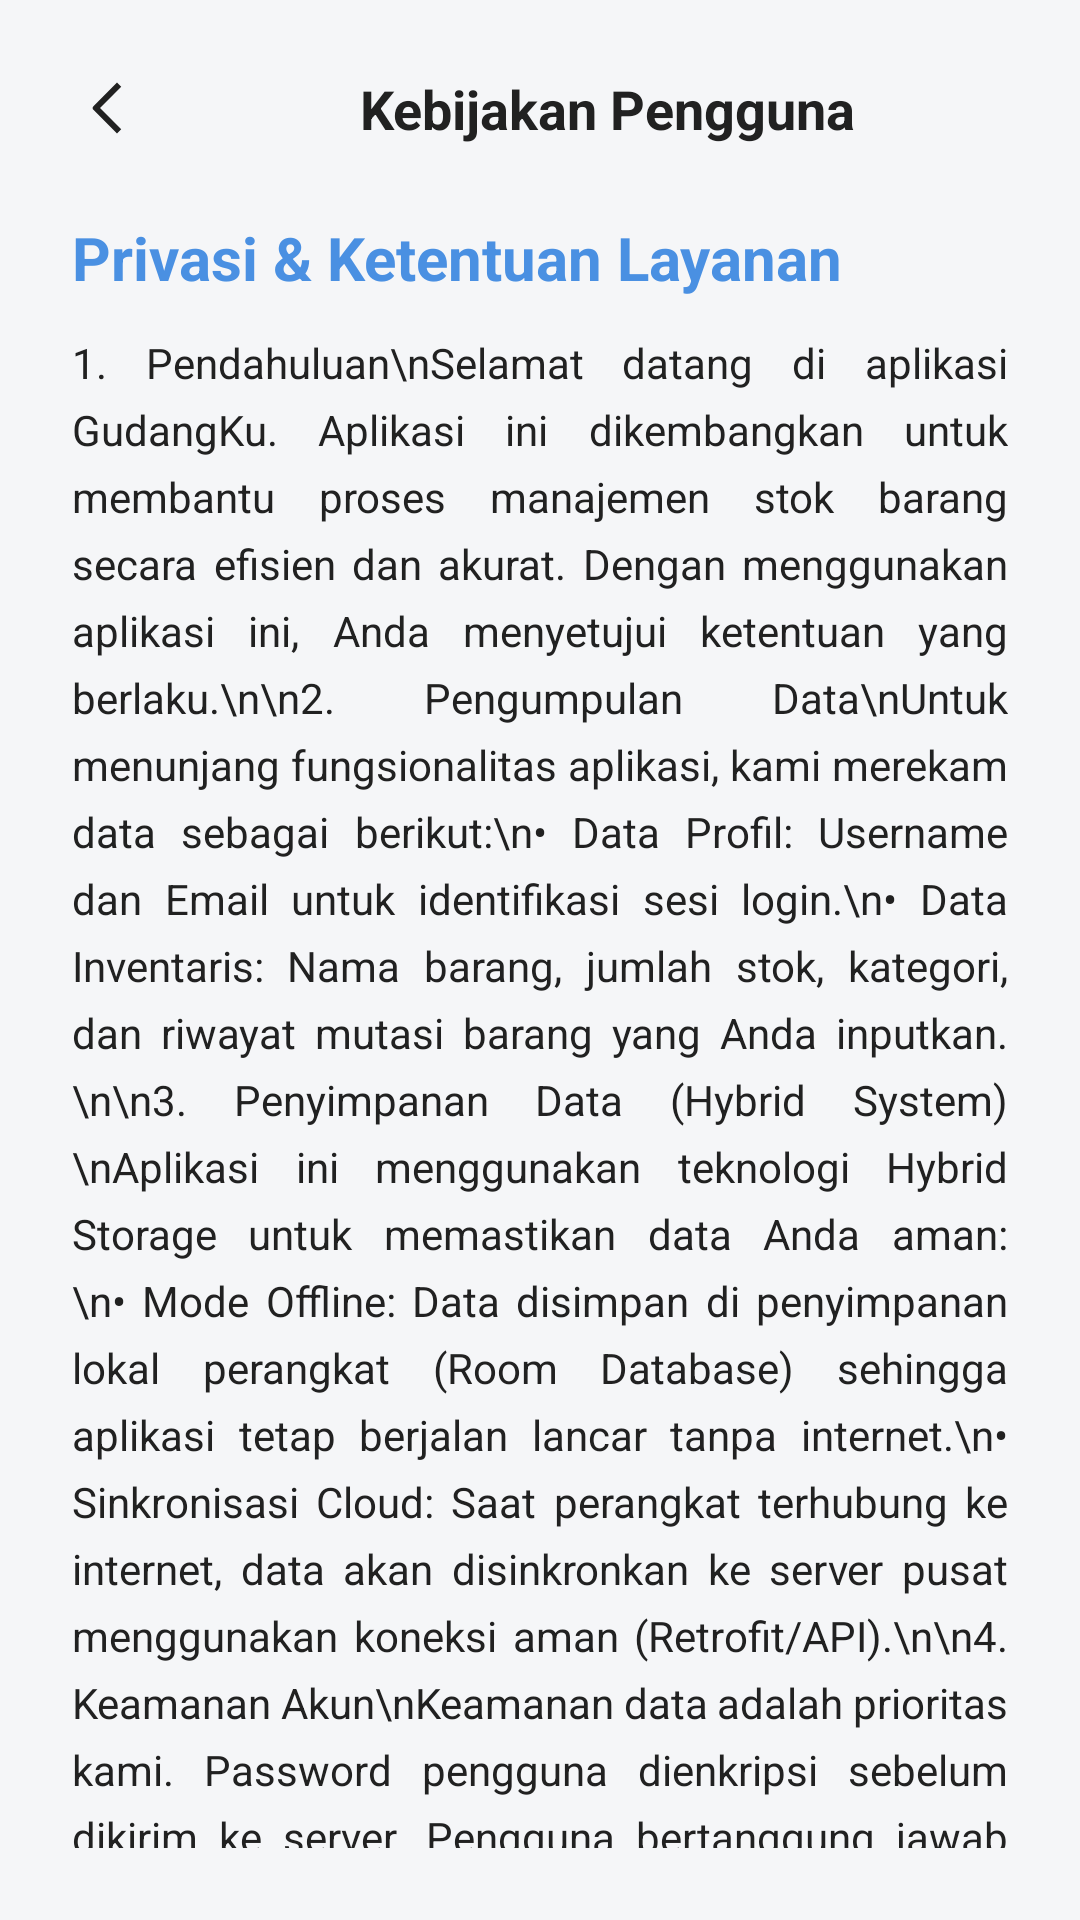

Named icons in this screenshot (1080 × 1920) and their bounding boxes, (x1=x1, y1=y1, x2=x2, y2=y2):
back: (x1=92, y1=82, x2=121, y2=134)
